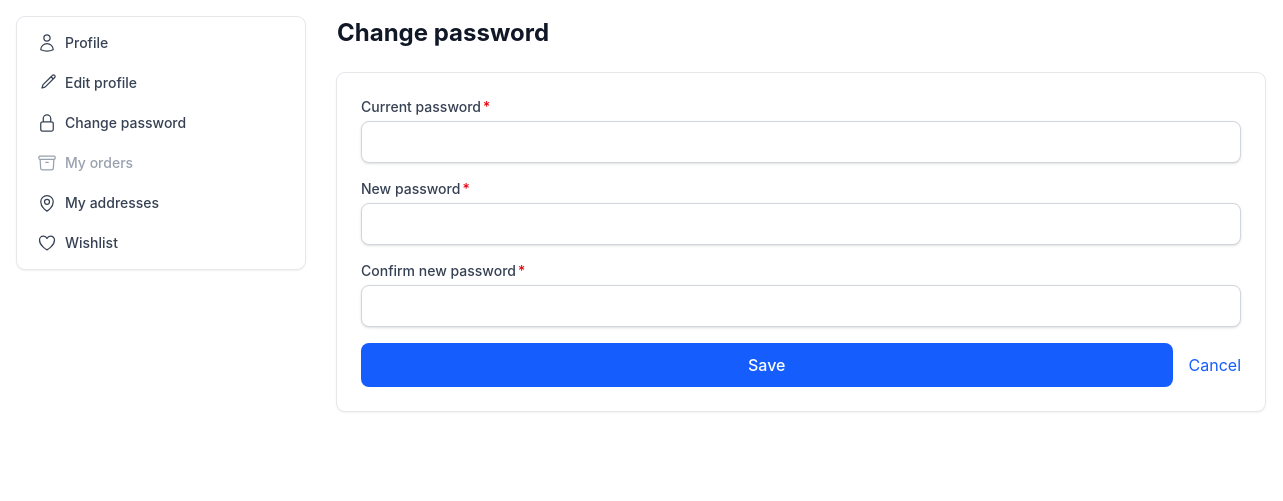
Scenario: PasswordChangePage › submits the entered values, shows success feedback and clears the fields
In the password field labelled "Current password*": (801, 142) [361,121,1241,163], type "OldPass123!"
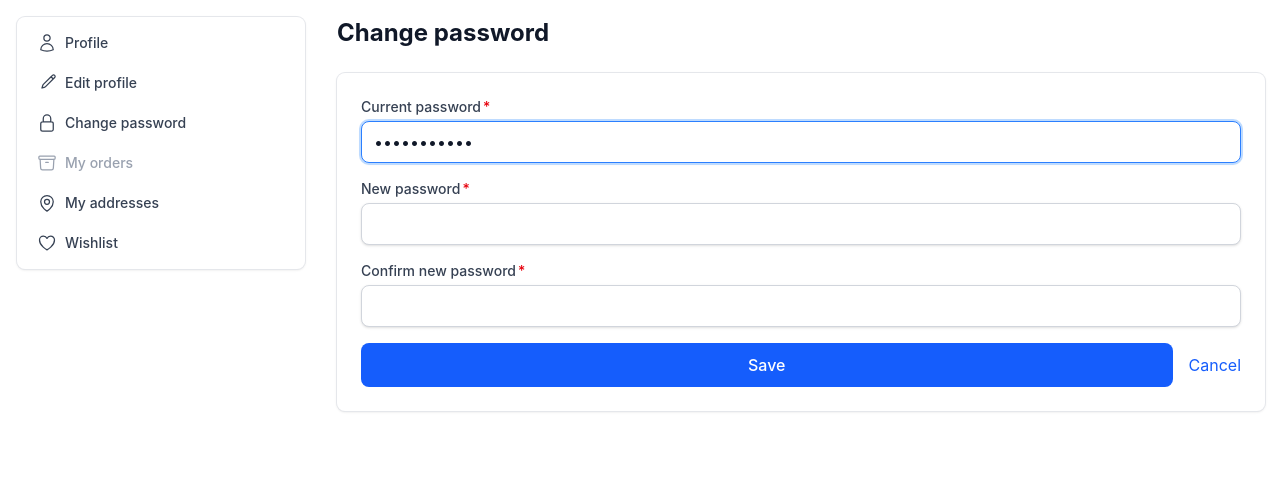
In the password field labelled "New password*": (801, 224) [361,203,1241,245], type "NewPass456!"
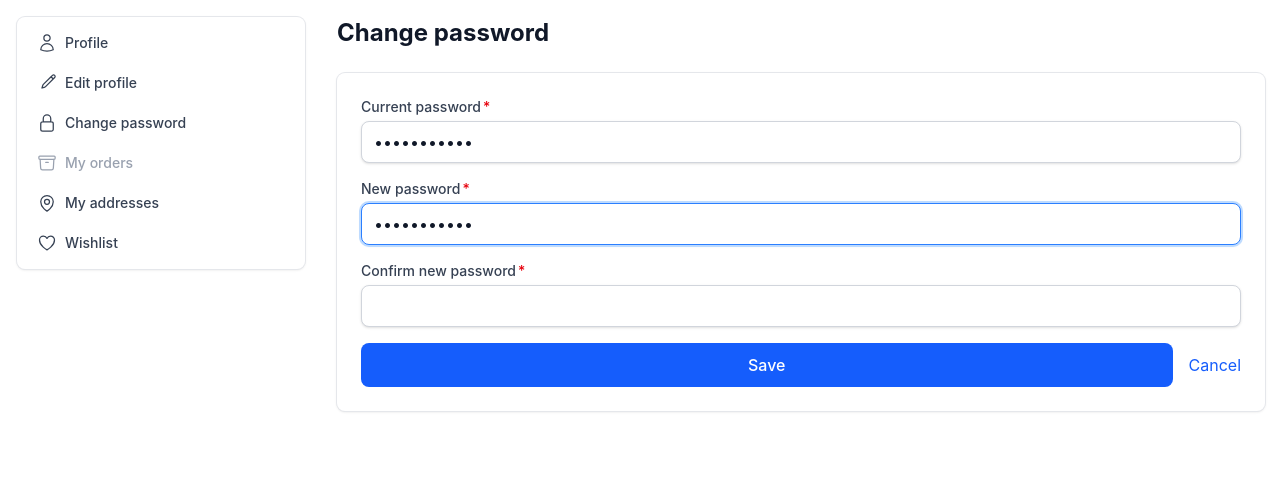
In the password field labelled "Confirm new password*": (801, 306) [361,285,1241,327], type "NewPass456!"
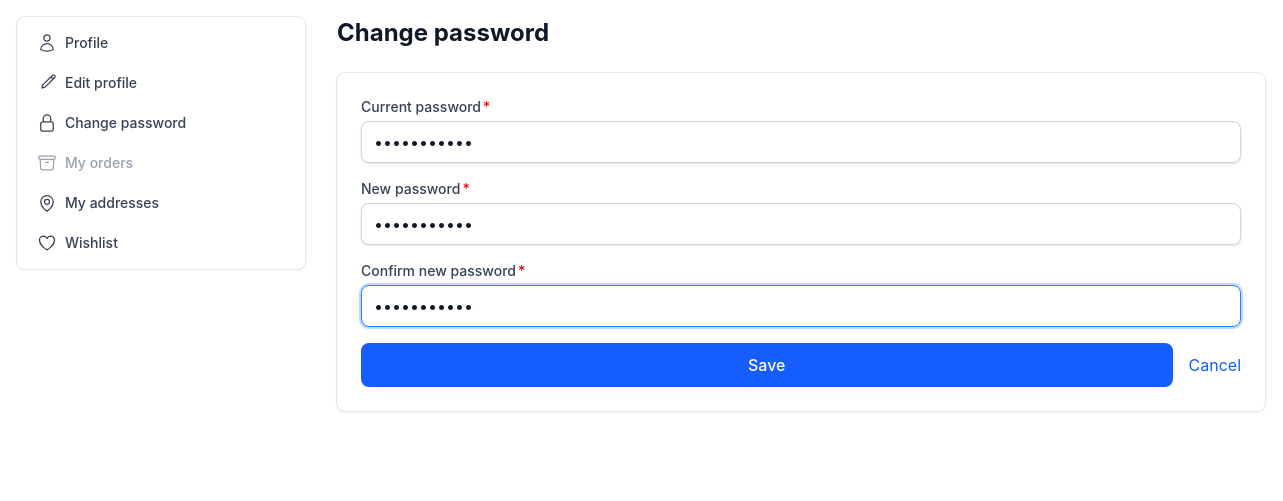
Click the button "Save": (767, 365) [361,343,1172,387]
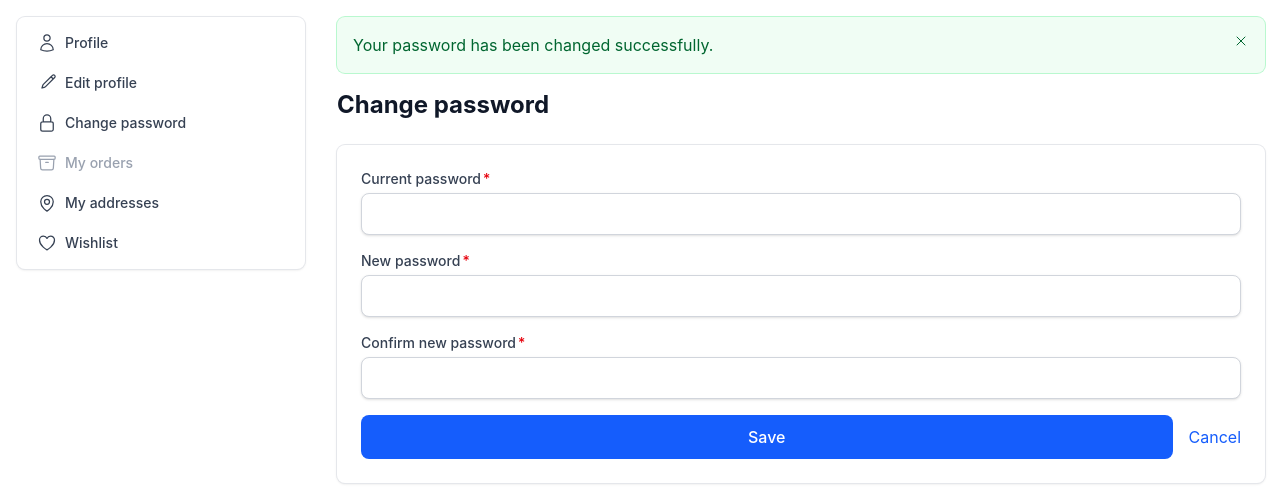
Check: the text "Your password has been changed successfully." is shown, box [353,35,713,55]
